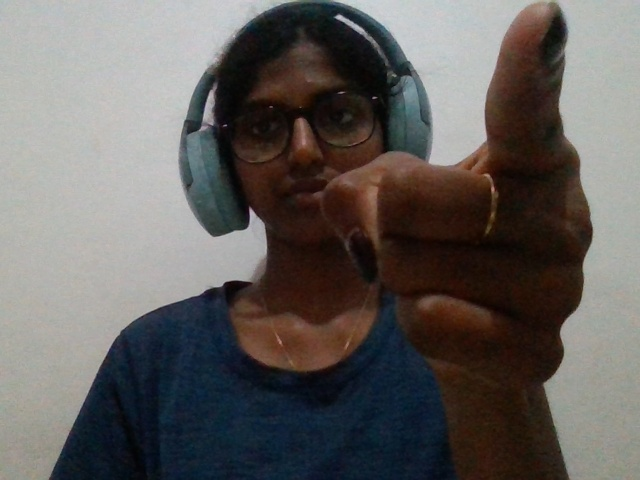You: (291, 3, 639, 423)
